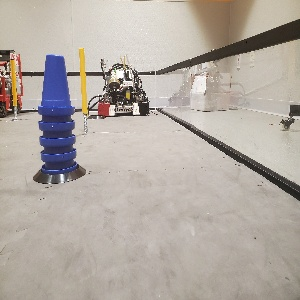Blue_5: (35, 53, 77, 174)
